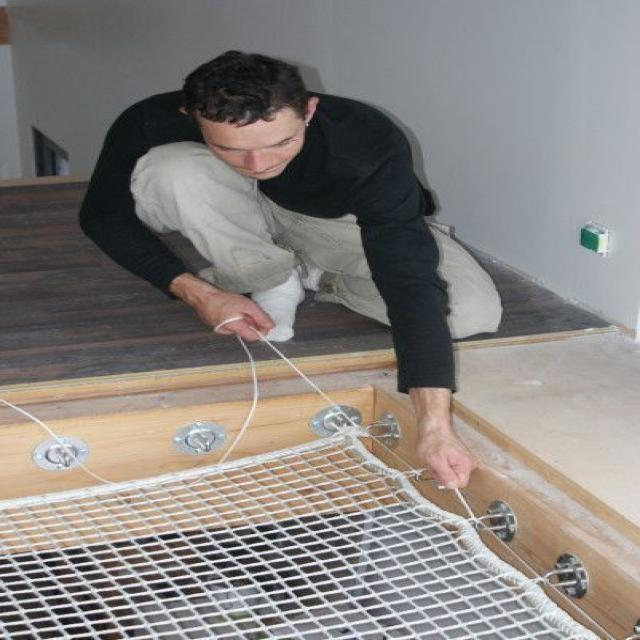person: (76, 49, 486, 491)
